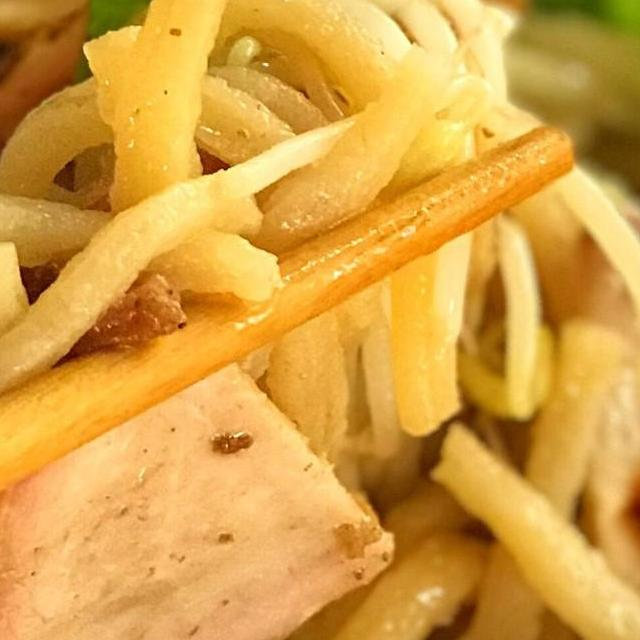mi: (0, 0, 579, 450), (0, 261, 640, 640)
mi quang: (0, 0, 640, 640)
thit heo: (0, 261, 402, 640)
